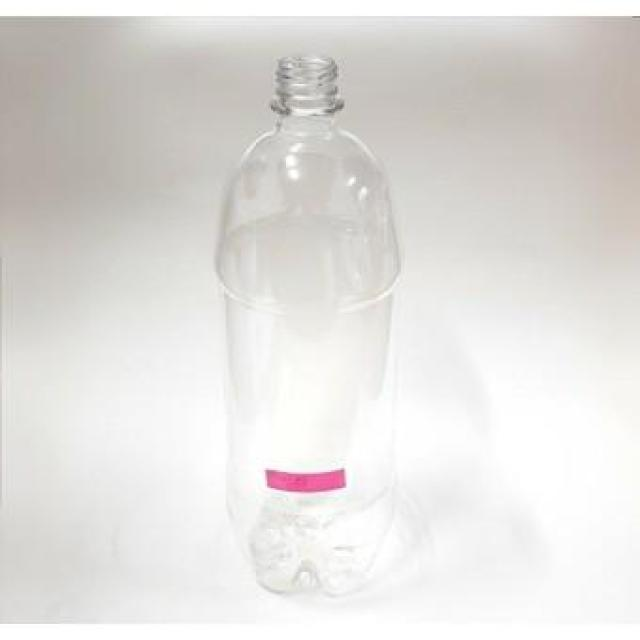bottle: (211, 54, 401, 595)
